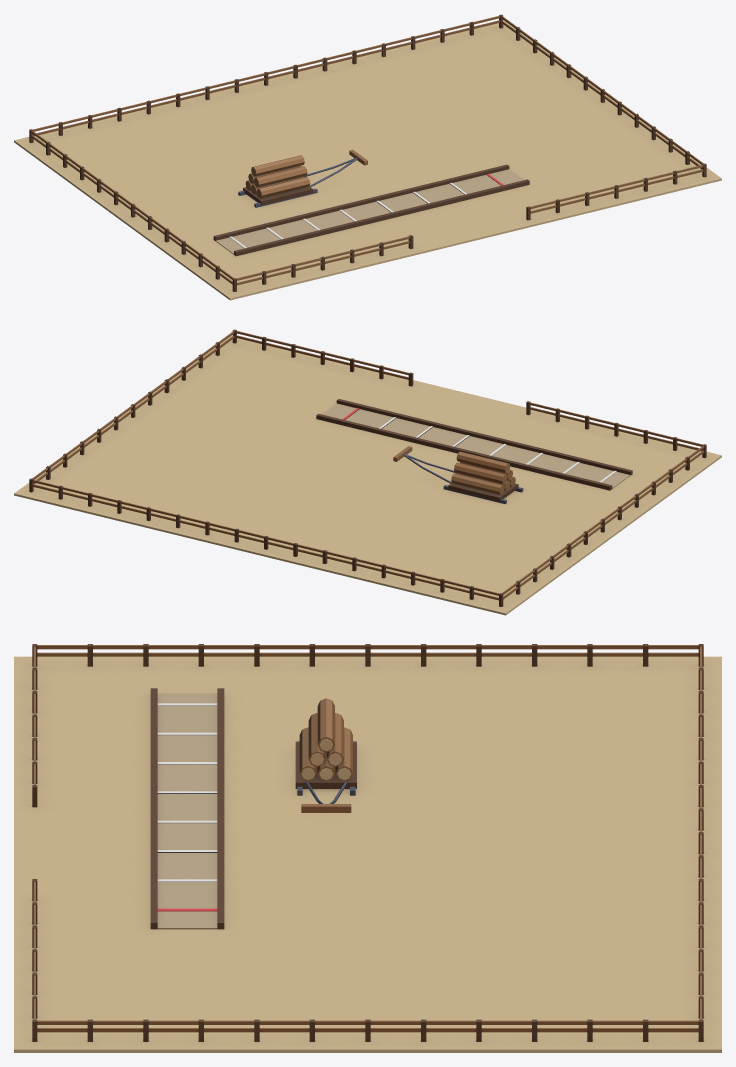
The model's file is area_gym_1_5.fbx.
3 renders of one model, top to bottom at view 1: azimuth 30°, elevation 25°; view 2: azimuth 150°, elevation 25°; view 3: azimuth 270°, elevation 25°, orthographic. The views are drawn at different scales.
Visible parts, largest first — view 1: area_gym_1_5_body; view 2: area_gym_1_5_body; view 3: area_gym_1_5_body.
Boxes of the visible parts, left/top/right/bottom form: area_gym_1_5_body: left=14, top=14, right=721, bottom=300; area_gym_1_5_body: left=14, top=329, right=721, bottom=615; area_gym_1_5_body: left=14, top=644, right=721, bottom=1052.
Size of the model in its own units: 16750 by 1123 by 12750.
Materials: 1 (1 with a texture image).
